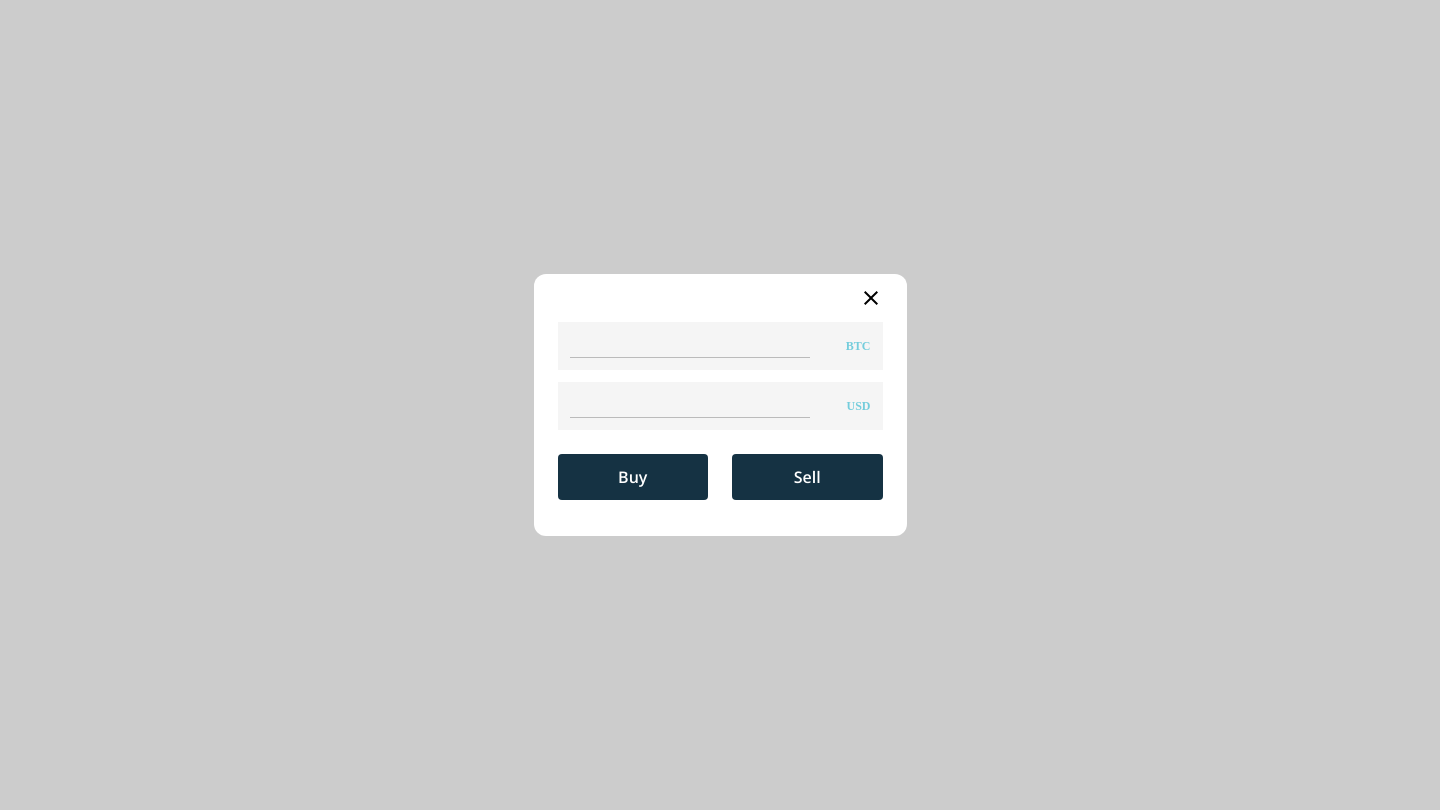
Test: TradeModal › Covert USD to BTC correctly
Step 1. Type "225" into the field labelled "USD" → (690, 406), box x1=570 y1=394 x2=810 y2=418
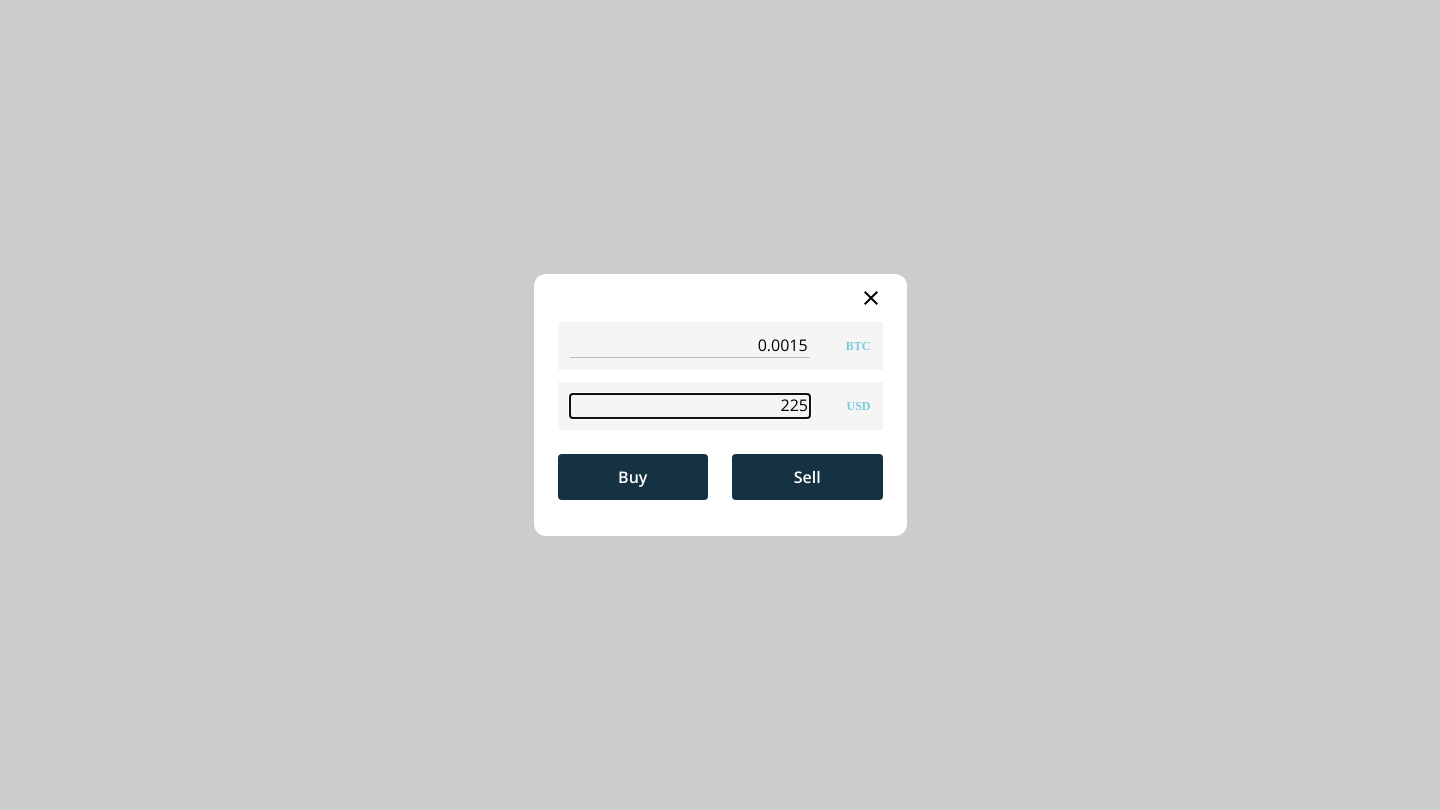
Now the field labelled "BTC" holds "0.0015", box x1=570 y1=334 x2=810 y2=358
